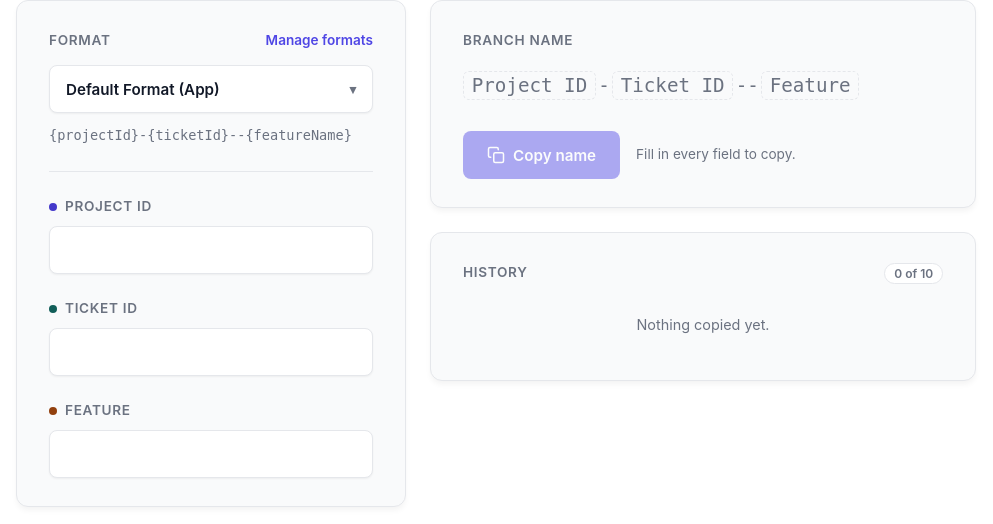
Test case: AppMainView › cannot copy until every field is filled in
expect the button "Copy name" is disabled: met, box x1=463 y1=131 x2=620 y2=179
In the field named "projectId": [211, 250] box x1=49 y1=226 x2=373 y2=274, type "web"
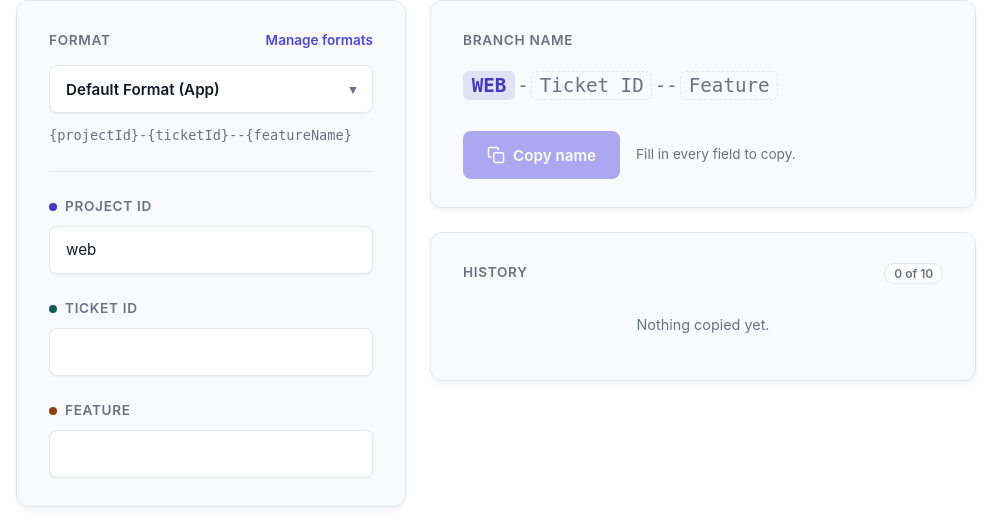
In the field named "ticketId": [211, 352] box x1=49 y1=328 x2=373 y2=376, type "487"
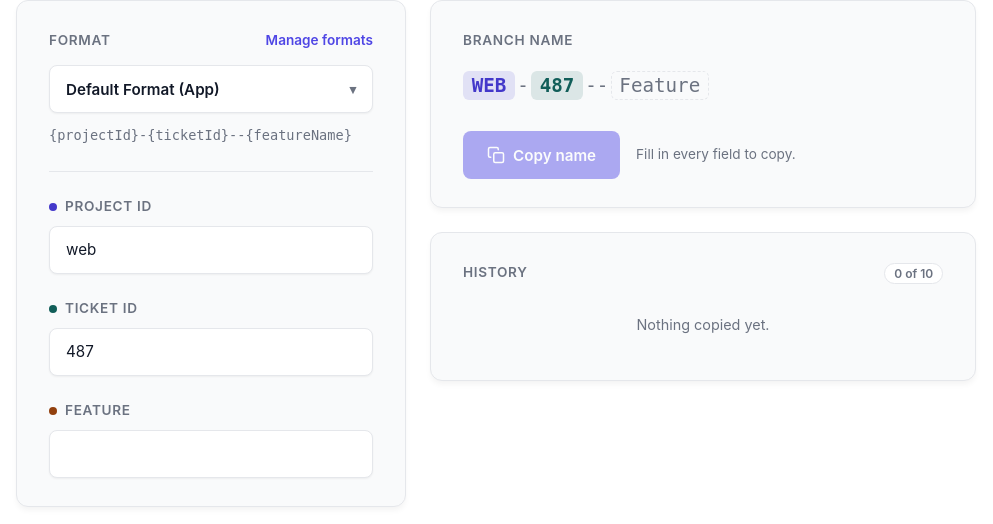
expect the button "Copy name" is disabled: met, box x1=463 y1=131 x2=620 y2=179
In the field named "featureName": [211, 454] box x1=49 y1=430 x2=373 y2=478, type "Login con SSO"
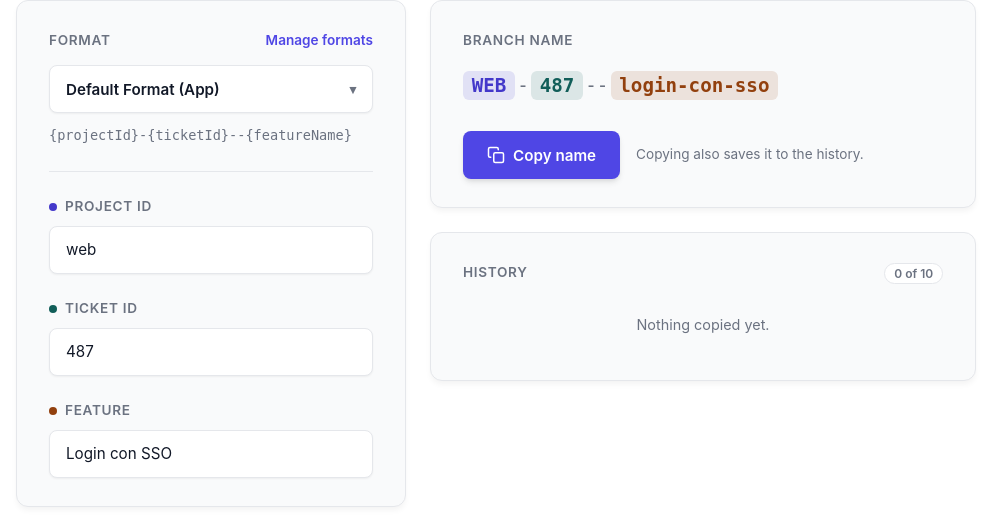
expect the button "Copy name" is enabled: met, box x1=463 y1=131 x2=620 y2=179
